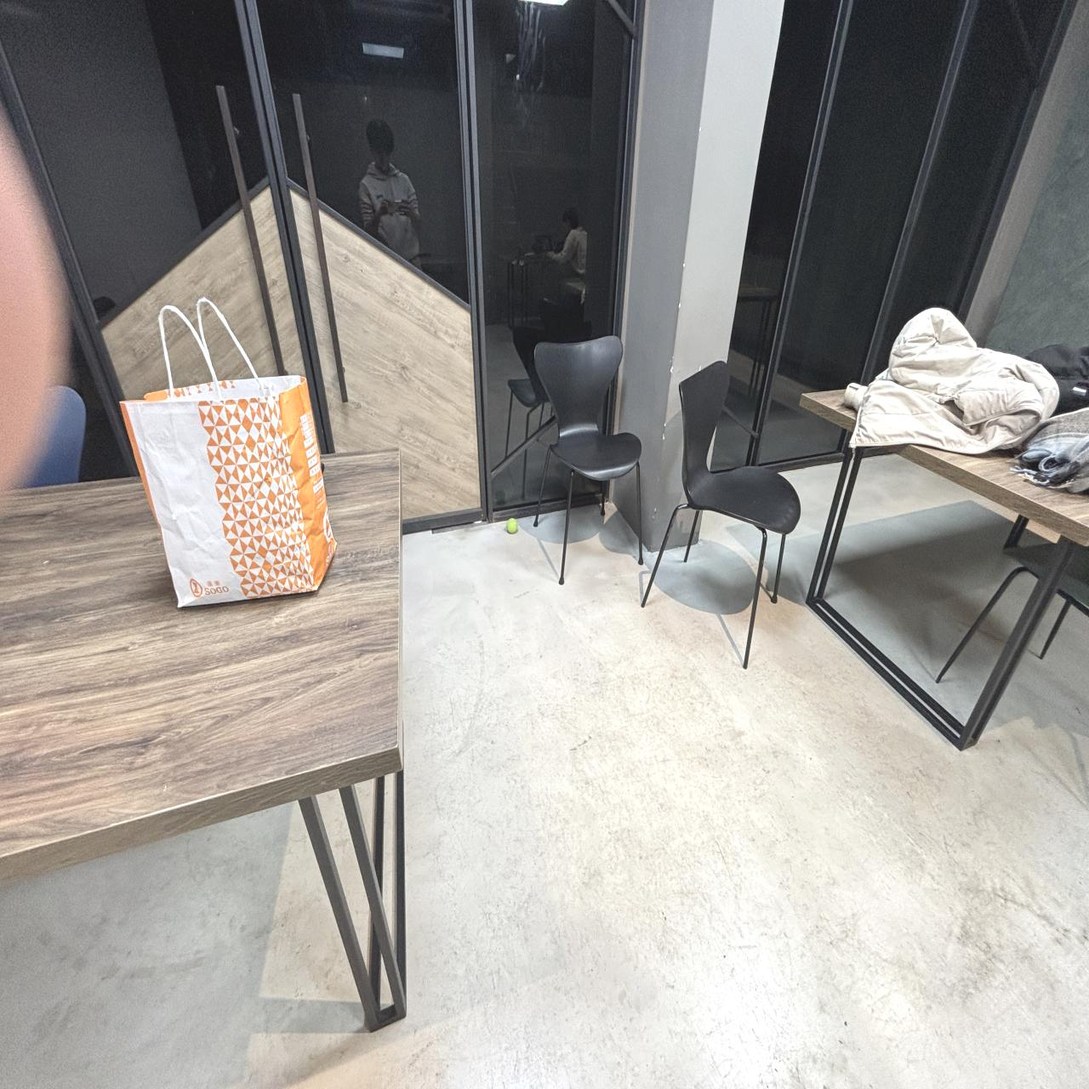tennisball: (506, 517, 517, 533)
